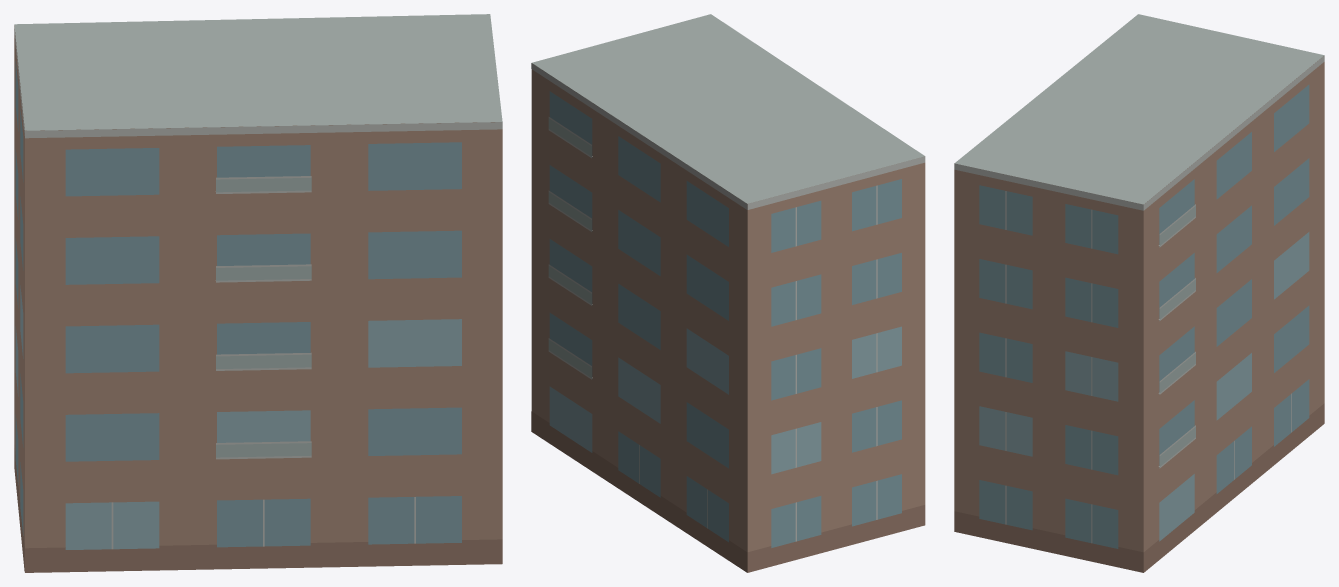
The model's file is survey-upis-32882532.glb.
The picture shows the model from 3 angles, left to right: view 1: azimuth 30°, elevation 25°; view 2: azimuth 150°, elevation 25°; view 3: azimuth 270°, elevation 25°; orthographic projection. The views are drawn at different scales.
Visible parts, largest first — view 1: survey-upis-32882532.tmp; view 2: survey-upis-32882532.tmp; view 3: survey-upis-32882532.tmp.
Boxes of the visible parts, bbox=[...] form: survey-upis-32882532.tmp: bbox=[14, 14, 502, 572]; survey-upis-32882532.tmp: bbox=[531, 14, 925, 572]; survey-upis-32882532.tmp: bbox=[954, 14, 1324, 572].
Bounding box in the file's own units: 15.98 × 14.4 × 13.13.
